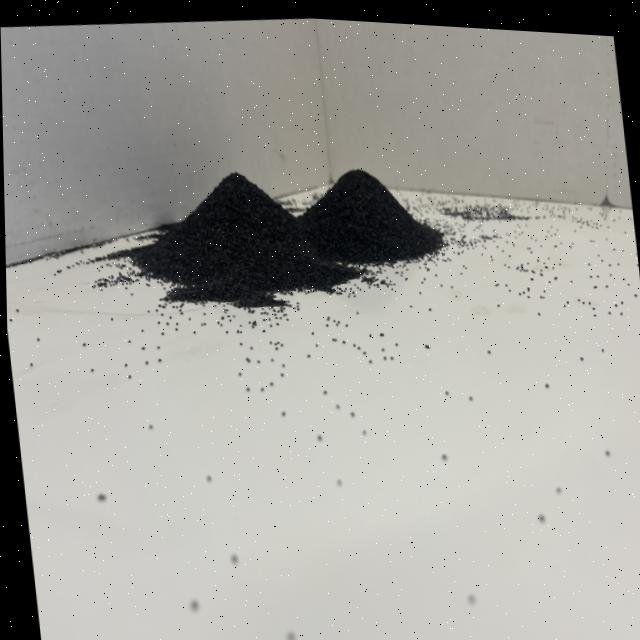Poppy Seeds: (130, 91, 456, 356)
